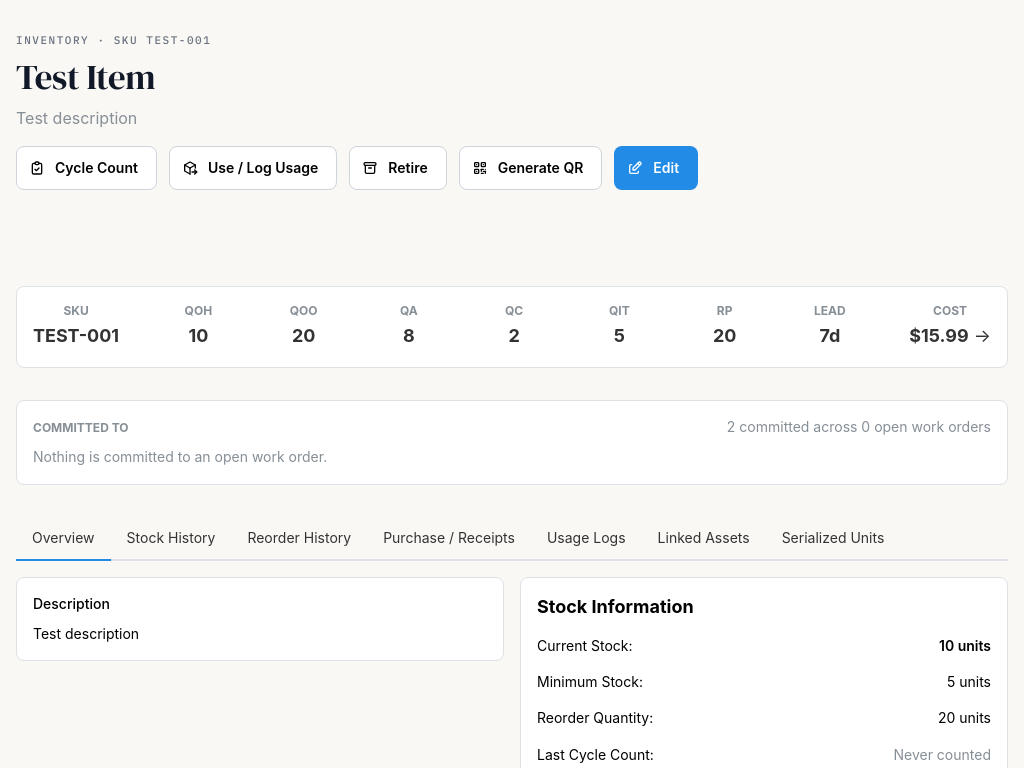
it: InventoryItemDetailPage › loads the purchase history and renders order costs plus deliveries grouped by order
Expected: the heading "Test Item" is shown, [16,53,155,101]
Click the tab "Purchase / Receipts" at (449, 539), box [367,517,531,561]
(page scrolled)
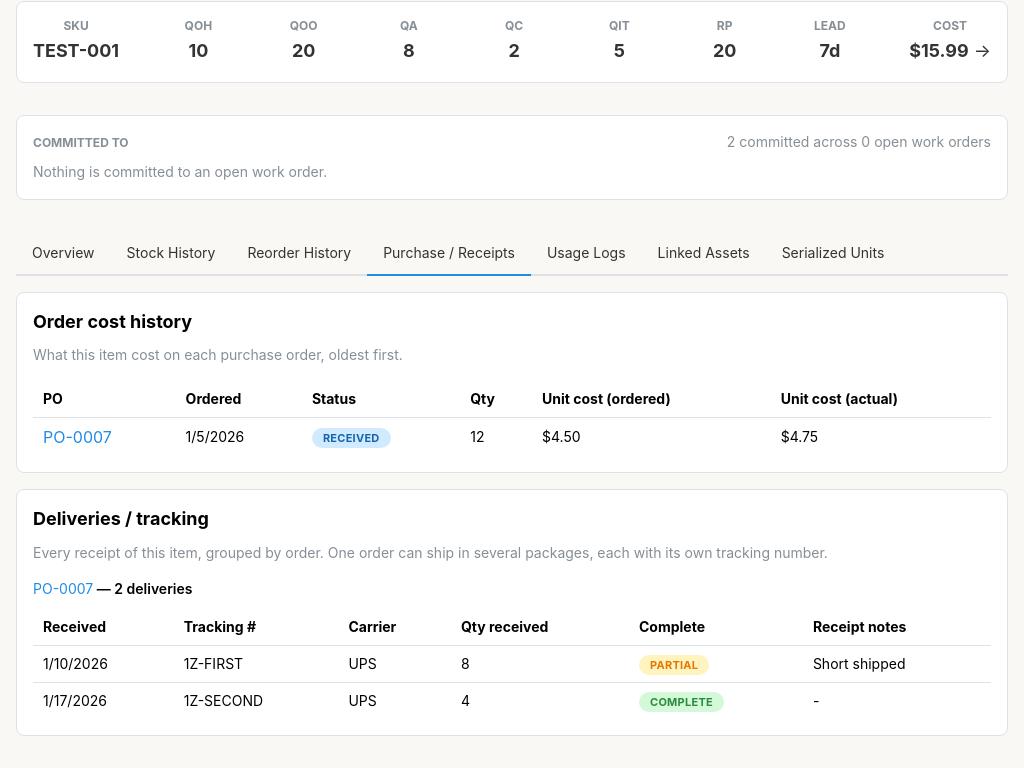
Expected: the element with test id "order-cost-history" shows "PO-0007", [43,427,112,447]
Expected: the element with test id "order-cost-history" shows "$4.50", [542,428,580,445]
Expected: the element with test id "order-cost-history" shows "$4.75", [781,428,818,445]
